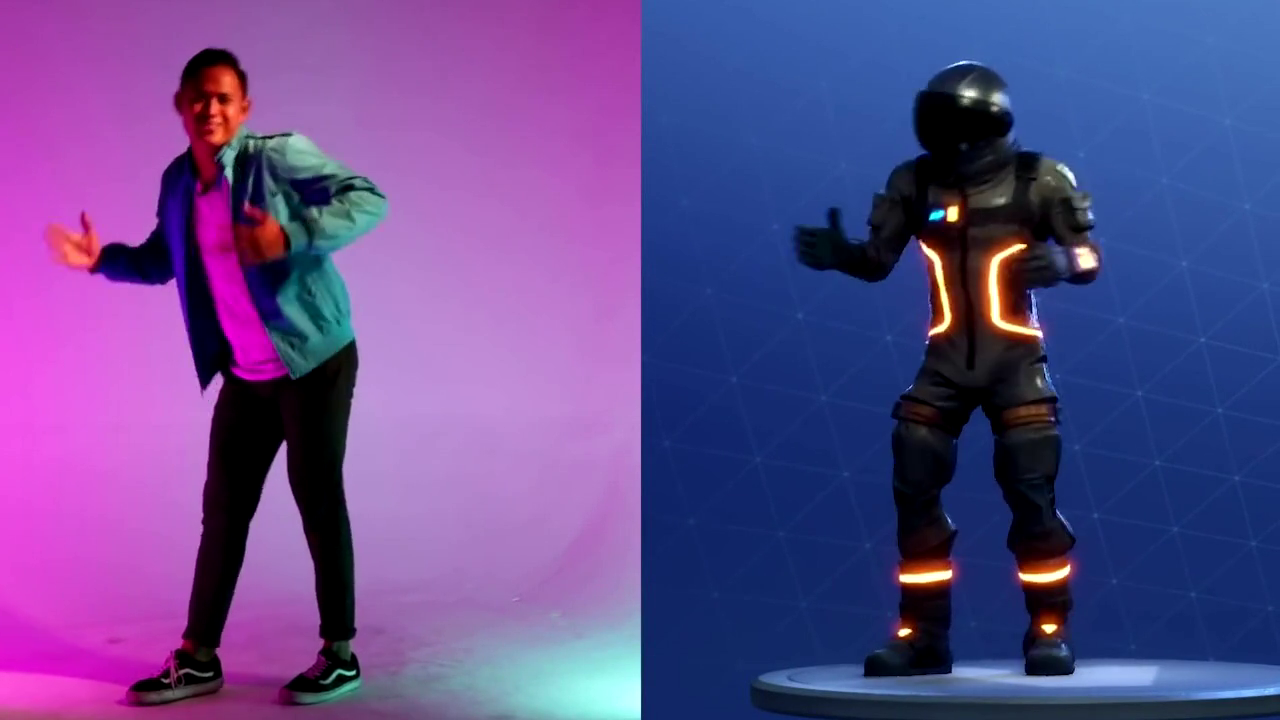Head: (164, 38, 266, 164)
Hip: (171, 341, 394, 440)
LeftAnkle: (262, 632, 395, 714)
LeftElbow: (318, 169, 419, 241)
LeftKnee: (271, 465, 378, 543)
LeftShoulder: (239, 120, 331, 193)
LeftWrist: (210, 201, 306, 278)
RightAnkle: (113, 639, 238, 716)
RightKnee: (188, 469, 272, 557)
RightShoulder: (142, 131, 221, 205)
RightWrist: (15, 212, 118, 293)
Torso: (162, 154, 355, 367)
